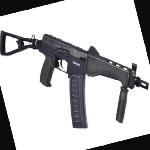Senapan: (0, 28, 150, 132)
